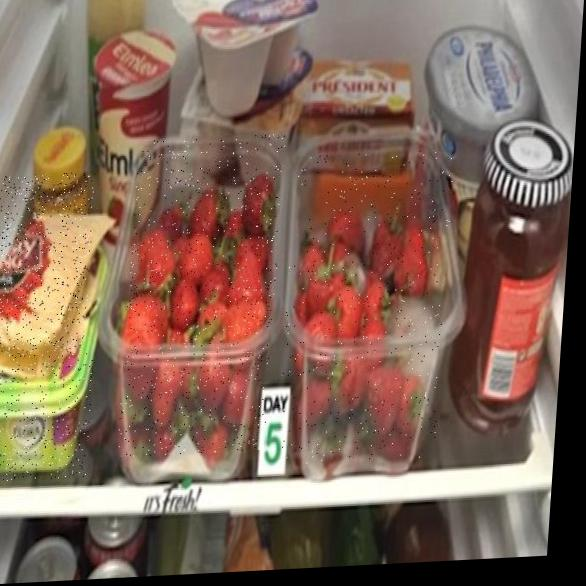butter: (0, 353, 93, 483)
cheese: (0, 170, 96, 363)
strawberries: (275, 149, 454, 466), (118, 134, 287, 457)
